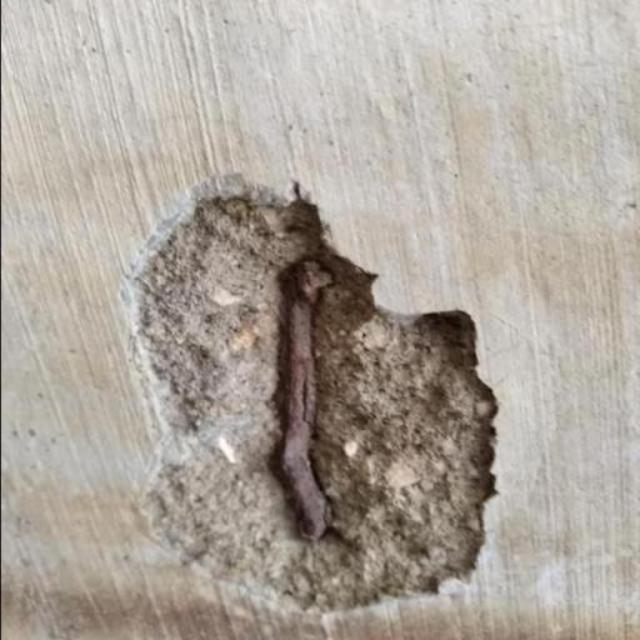D10: (130, 186, 499, 615)
